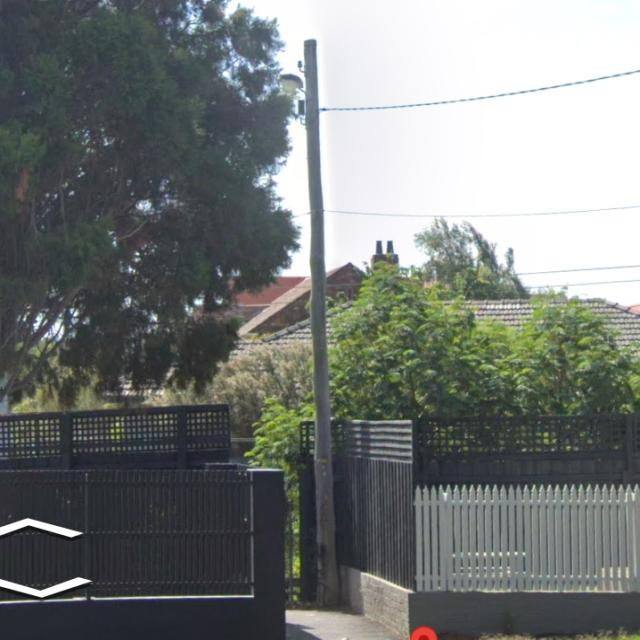timber-pole: (304, 38, 342, 609)
top mount suitable pole: (299, 38, 343, 609)
